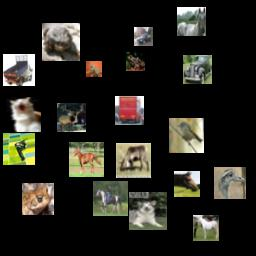airplane: (3, 133, 35, 165)
automobile: (183, 55, 212, 84), (134, 27, 153, 46)
bird: (169, 118, 204, 153), (214, 167, 246, 199)
cat: (6, 97, 41, 132), (86, 61, 102, 77)
deer: (116, 143, 151, 178), (57, 103, 86, 132)
dog: (129, 192, 167, 230)
frog: (42, 23, 80, 61), (22, 183, 54, 215), (126, 52, 145, 71)
truck: (3, 54, 35, 86), (115, 96, 144, 125)
